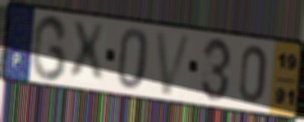0: (115, 26, 151, 92), (237, 43, 270, 108)
3: (199, 36, 233, 105)
G: (29, 13, 70, 83)
V: (153, 29, 195, 97)
X: (69, 20, 107, 85)
